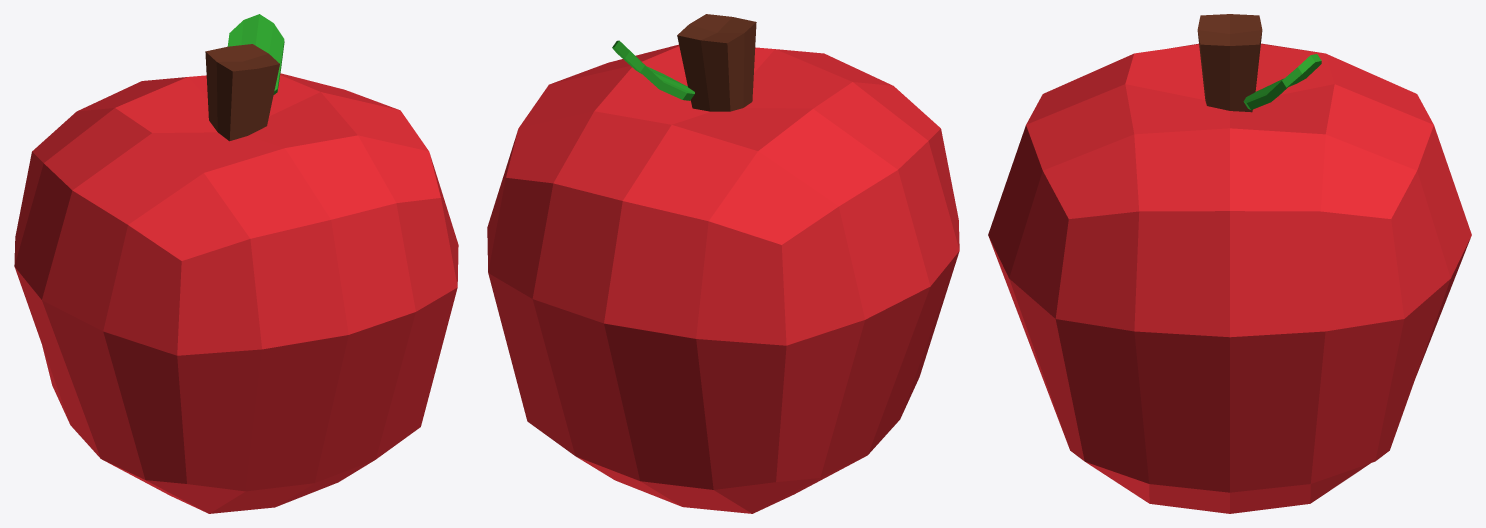
File: apple (1).fbx
The picture shows the model from 3 angles, left to right: view 1: azimuth 30°, elevation 25°; view 2: azimuth 150°, elevation 25°; view 3: azimuth 270°, elevation 25°; orthographic projection. The views are drawn at different scales.
Visible parts, largest first — view 1: Cube, Cube.001, Cube.002; view 2: Cube, Cube.001, Cube.002; view 3: Cube, Cube.001, Cube.002.
Part boxes in pixels (x1,y1,x2,y2): Cube: (14,73,458,513); Cube.001: (205,44,279,141); Cube.002: (227,14,284,94); Cube: (487,44,959,513); Cube.001: (677,14,756,111); Cube.002: (612,40,694,100); Cube: (988,43,1471,513); Cube.001: (1197,14,1262,112); Cube.002: (1243,54,1321,109).
Size of the model in its own units: 197 by 205 by 197.
